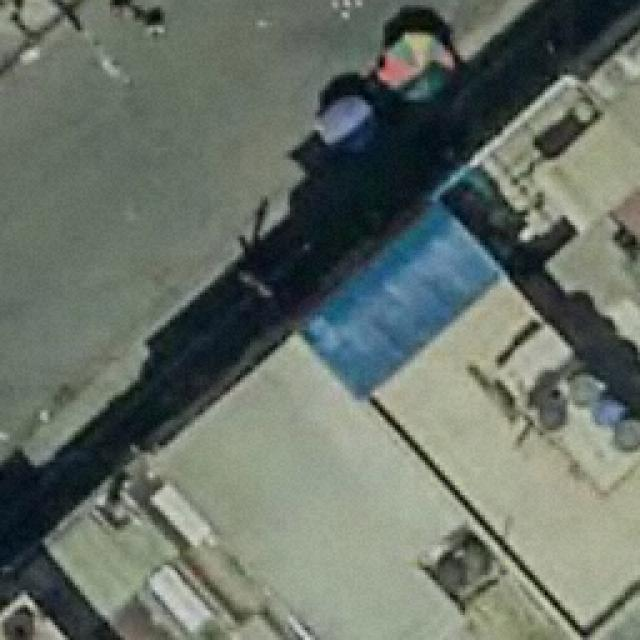vendedor_ambulante: (375, 28, 460, 102), (310, 90, 384, 160)
